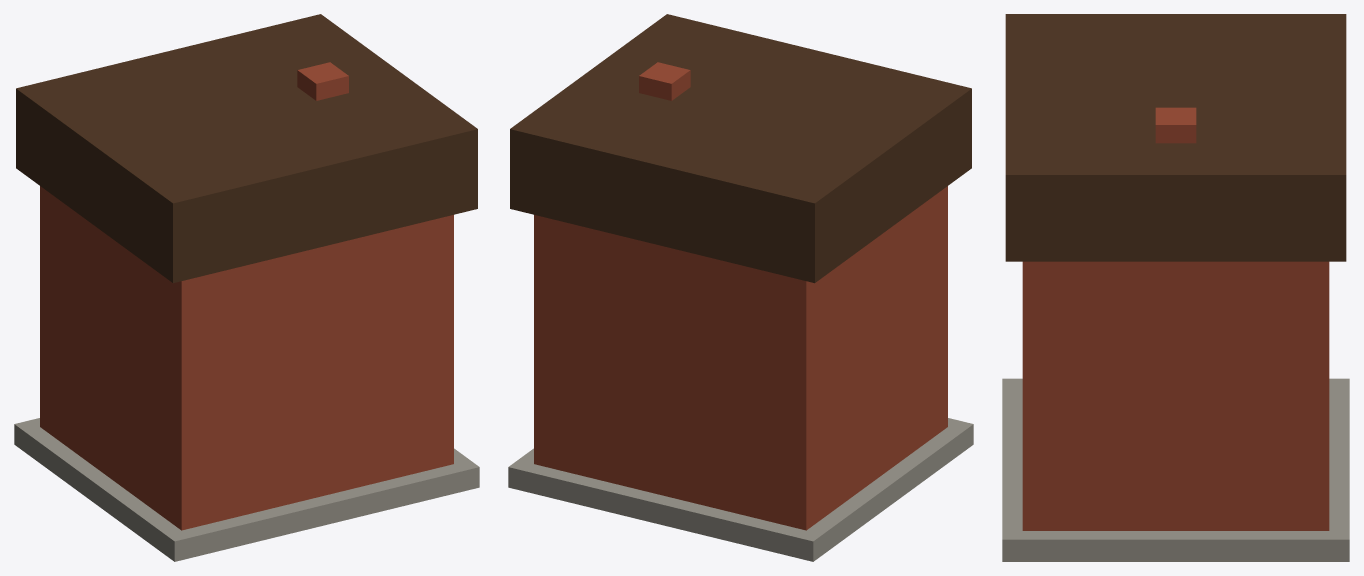
File: bld_residential_a04_lod2.glb
3 renders of one model, left to right at view 1: azimuth 30°, elevation 25°; view 2: azimuth 150°, elevation 25°; view 3: azimuth 270°, elevation 25°, orthographic. The views are drawn at different scales.
Visible parts, largest first — view 1: body; view 2: body; view 3: body.
Boxes of the visible parts, left/top/right/bottom form: body: left=14, top=14, right=479, bottom=561; body: left=508, top=14, right=973, bottom=561; body: left=1002, top=14, right=1349, bottom=561.
Size of the model in its own units: 5.6 by 6.57 by 5.1.
